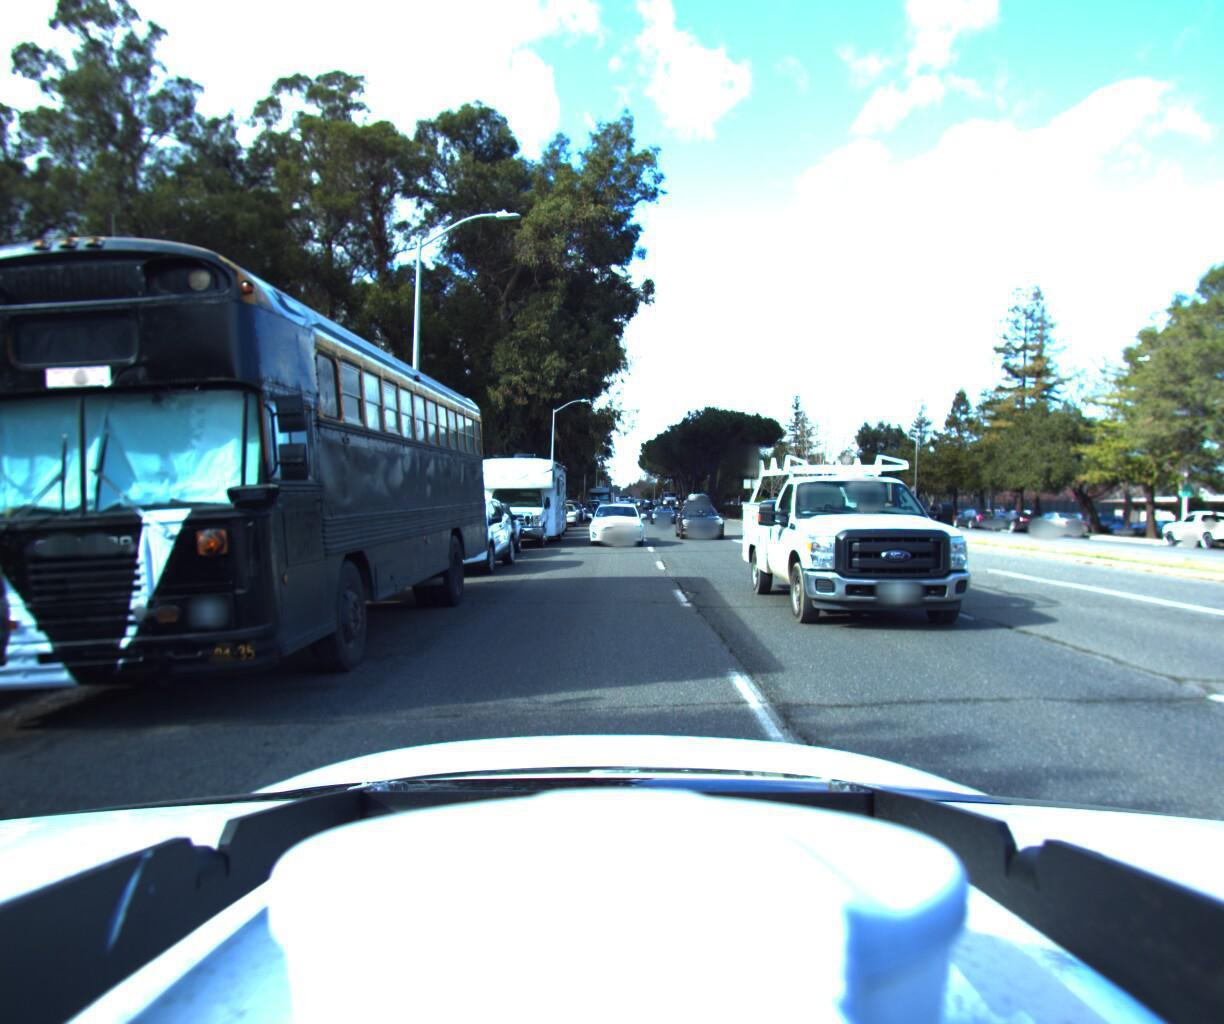bus: (0, 194, 493, 760)
car: (748, 416, 1064, 661), (391, 496, 516, 581), (434, 501, 524, 567), (1157, 505, 1224, 554), (673, 487, 729, 541), (586, 500, 644, 548), (1025, 506, 1092, 538), (986, 501, 1048, 534), (948, 502, 1002, 530), (914, 502, 959, 524), (545, 503, 578, 529), (555, 498, 583, 526), (650, 501, 679, 524)
other_vehicle: (465, 448, 566, 552)
